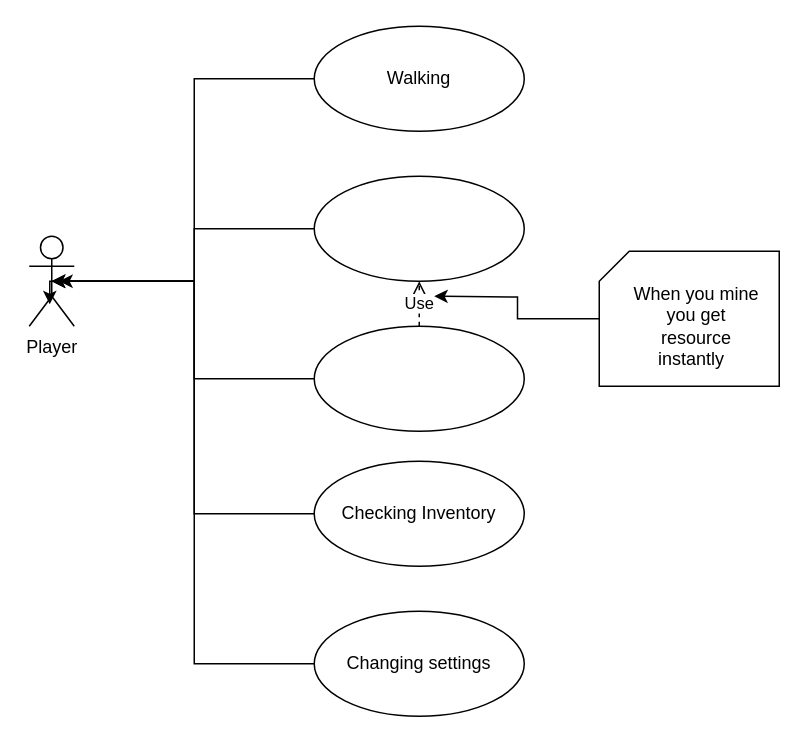
Image size: 806x743. Some labels were removed from this diagram. Here are the shapes that lost their labels. From the top down, the box of each, then its label:
(313, 175, 524, 281): AddingToInventory
(313, 325, 524, 431): Mining
